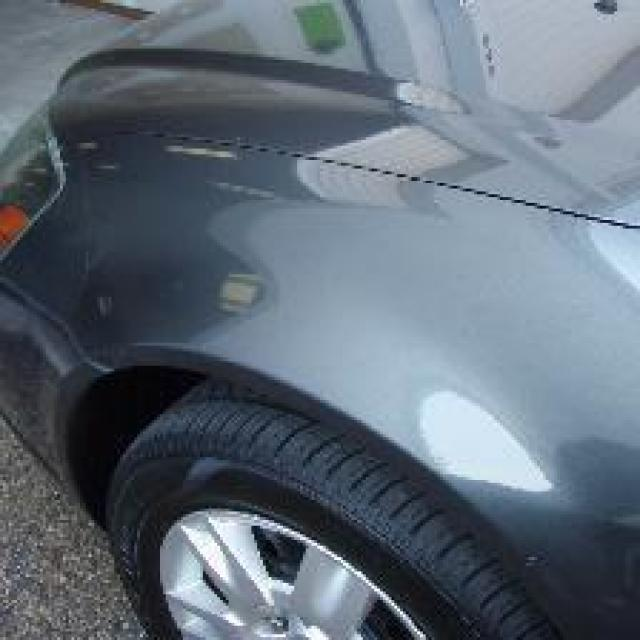damaged: (57, 211, 366, 400)
